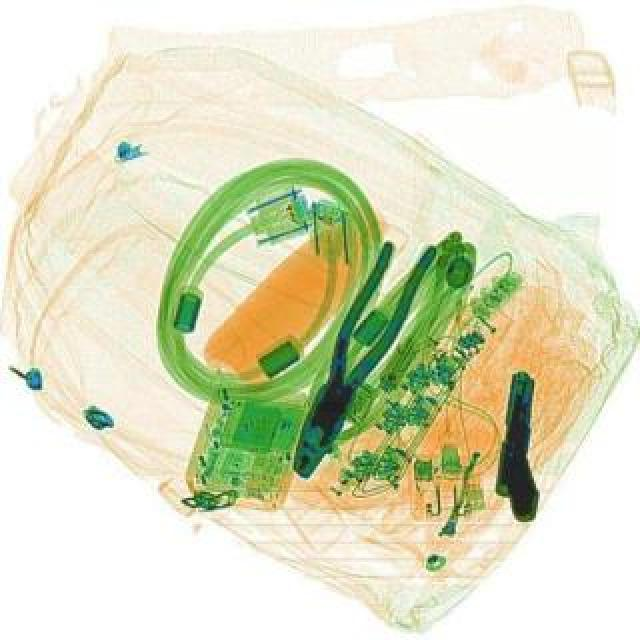gun: (488, 366, 556, 522)
wrench: (270, 224, 442, 484)
